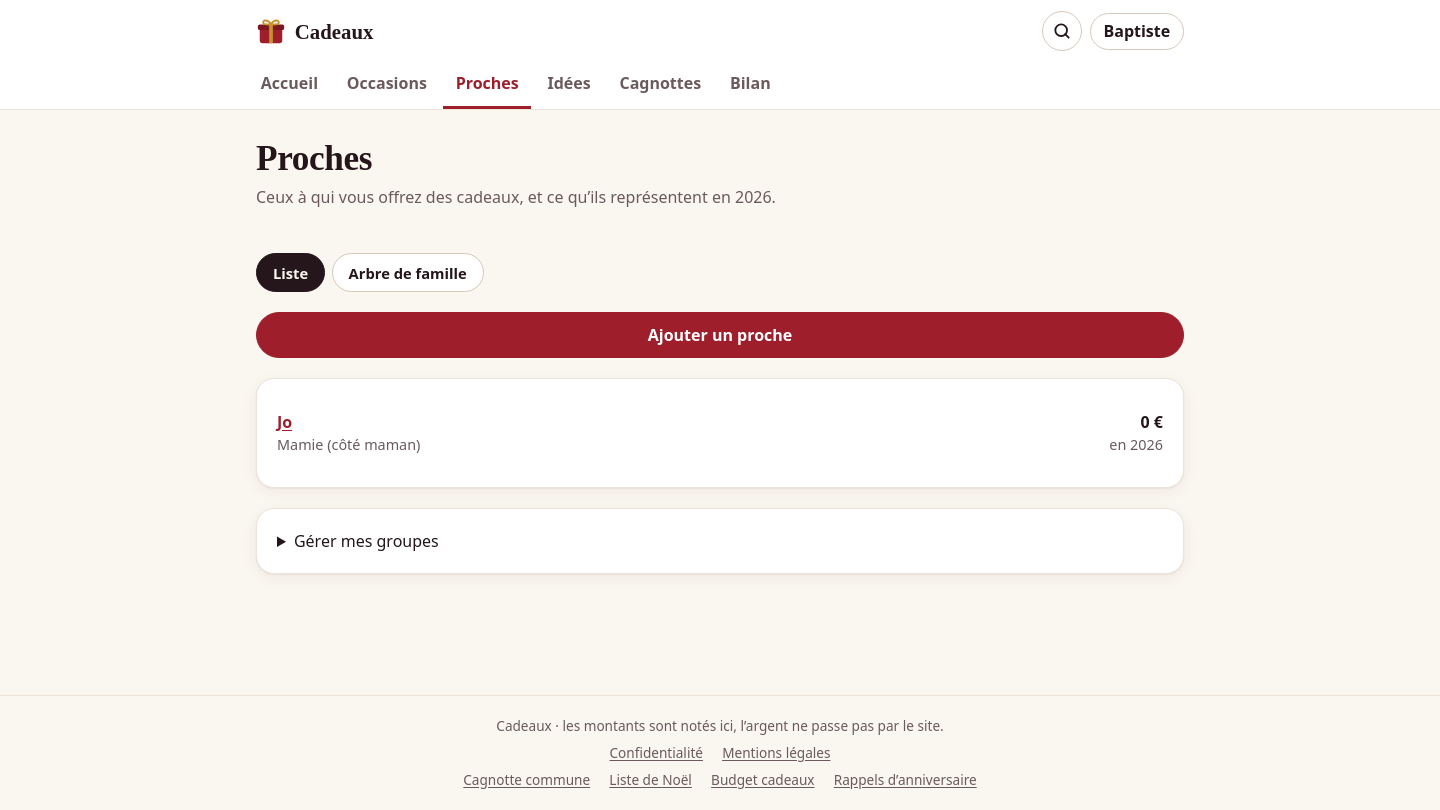
Test: arbre de famille › Mamie : fête des mères proposée
Click the button "Arbre de famille".
click(408, 273)  # box [332,253,484,292]
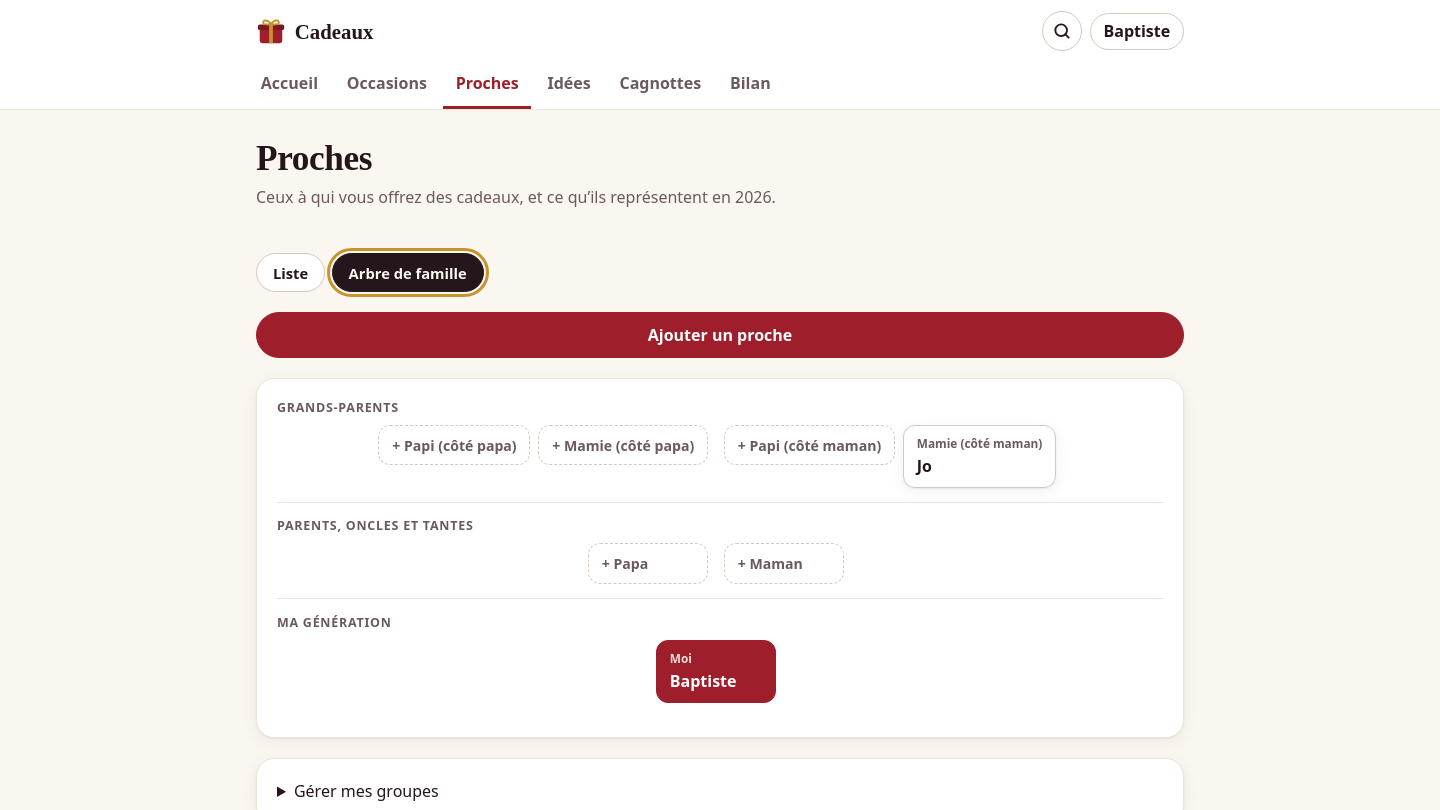
Click the button "Mamie (côté maman) Jo".
click(980, 456)  # box [903,425,1056,488]
(page scrolled)
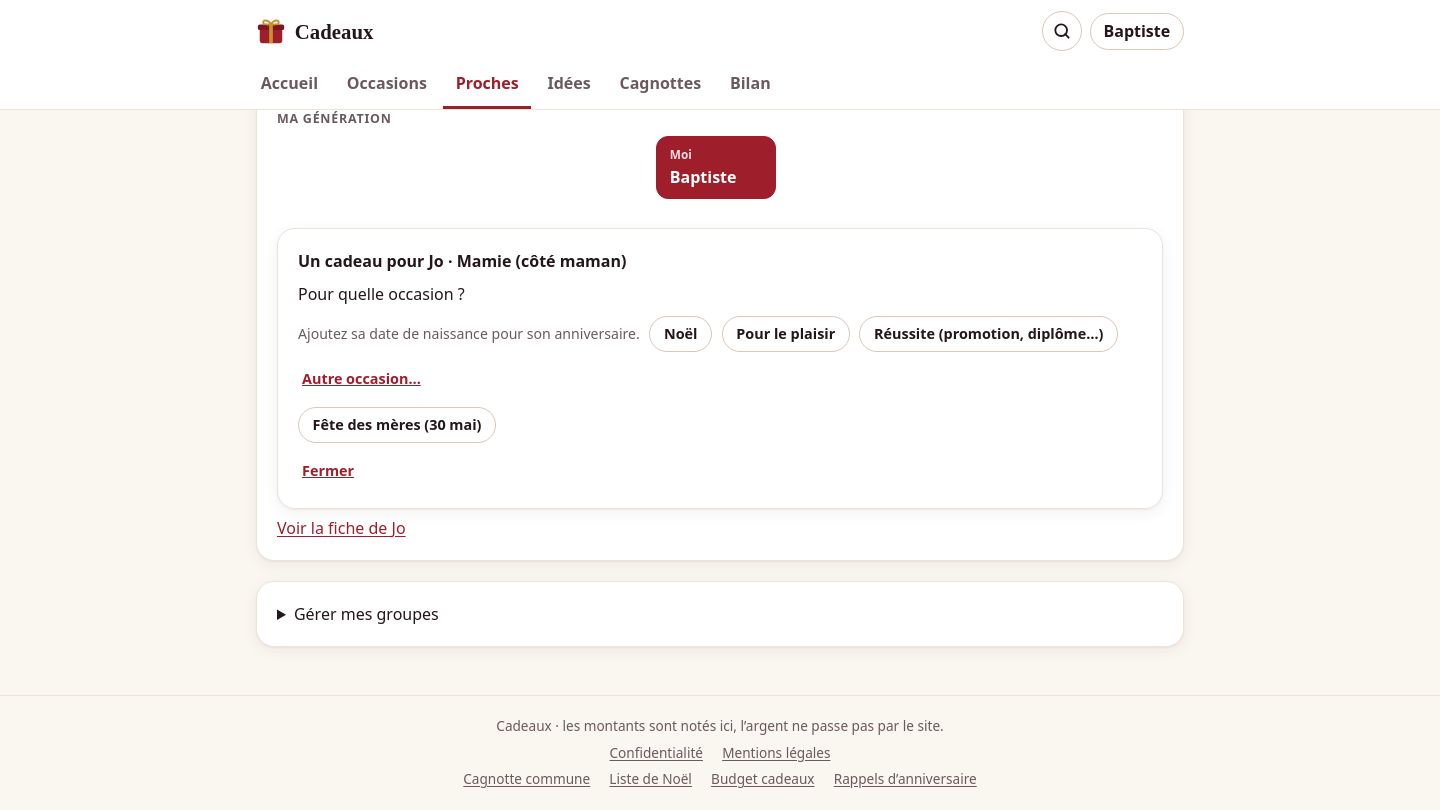
Now the button "Fête des mères (30 mai)" is enabled, box [298,407,496,443]
